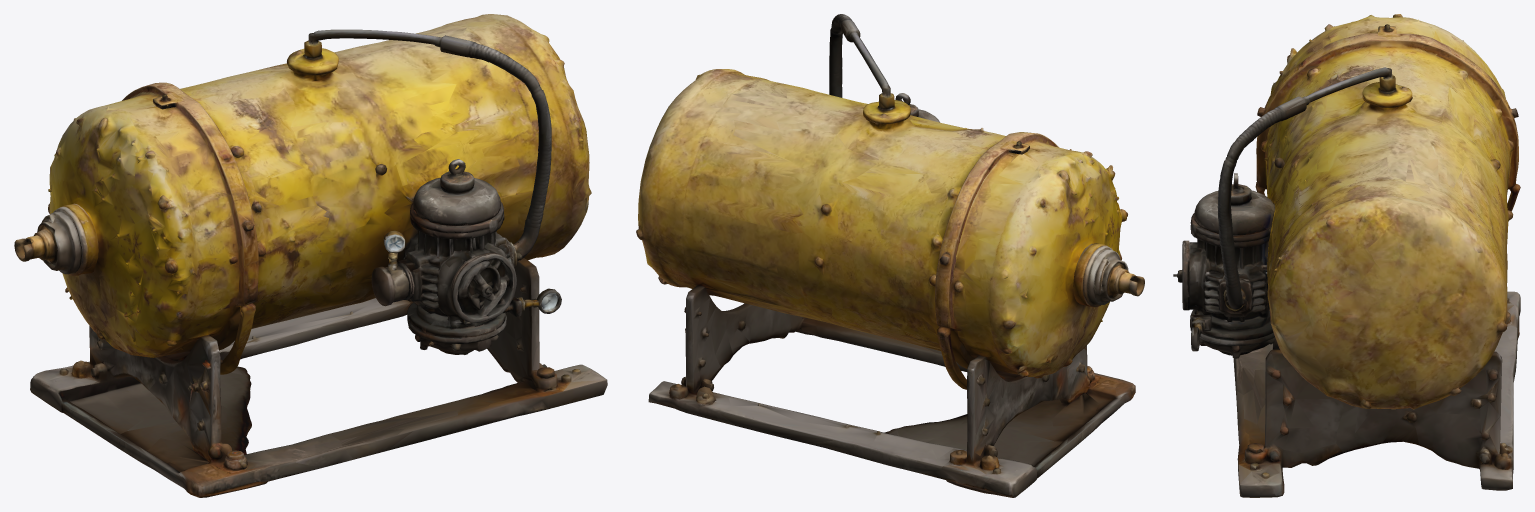
The model's file is diesel_fuel_tank_pump.fbx.
The picture shows the model from 3 angles, left to right: view 1: azimuth 30°, elevation 25°; view 2: azimuth 150°, elevation 25°; view 3: azimuth 270°, elevation 25°; orthographic projection. The views are drawn at different scales.
Visible parts, largest first — view 1: diesel_fuel_tank_pump; view 2: diesel_fuel_tank_pump; view 3: diesel_fuel_tank_pump.
Part boxes in pixels (x1=…): diesel_fuel_tank_pump: x1=14, y1=14, x2=607, y2=497; diesel_fuel_tank_pump: x1=636, y1=14, x2=1144, y2=497; diesel_fuel_tank_pump: x1=1173, y1=14, x2=1520, y2=497.
Bounding box in the file's own units: 2.45 × 1.65 × 1.49.
1 material, 1 textured.
